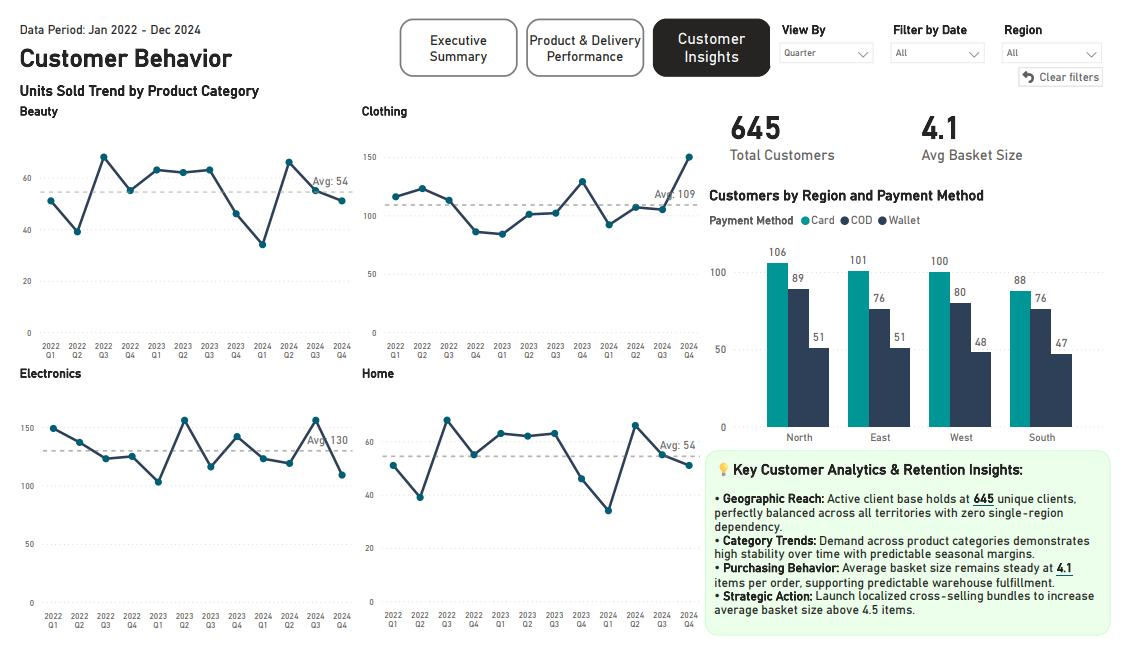

The dashboard page shown, as its layout file describes it:
{"tool":"powerbi","page":{"name":"Customer Insights","canvas":[1280,720],"ordinal":2},"visuals":[{"type":"clusteredColumnChart","title":"Customers by Region and Payment Method","fields":{"Category":["Dim_Customer.region"],"Series":["Dim_Payment.payment_method"],"Y":["Count(Fact_Sales.customer_id)"]},"box":[805.7,195.7,475.7,308.6],"z":0},{"type":"lineChart","title":"Beauty","fields":{"Category":["Dim_Calendar.Year Quarter"],"Y":["_Measures.Total Units Sold"]},"box":[0,100,400,305.7],"z":1000},{"type":"cardVisual","fields":{"Data":["_Measures.Total Unique Customers","_Measures.Avg Basket Size"]},"box":[805.7,78.6,474.3,117.1],"z":2000},{"type":"textbox","box":[805.7,504.3,474.3,215.7],"z":3000},{"type":"textbox","box":[0,23.8,300,45],"z":4000},{"type":"textbox","box":[0,0,227.1,29.7],"z":5000},{"type":"pageNavigator","box":[449.2,0,433.8,67.5],"z":6000},{"type":"slicer","fields":{"Values":["Dim_Calendar.Year","Dim_Calendar.MonthName"]},"box":[1013.1,0,130,56.9],"z":7000},{"type":"slicer","fields":{"Values":["Dim_Customer.region"]},"box":[1143.1,0,136.9,55.4],"z":8000},{"type":"actionButton","box":[1172.9,57.1,97.9,21.4],"z":9000},{"type":"lineChart","title":"Clothing","fields":{"Category":["Dim_Calendar.Year Quarter"],"Y":["_Measures.Total Units Sold"]},"box":[400,100,405.7,305.7],"z":10000},{"type":"lineChart","title":"Electronics","fields":{"Category":["Dim_Calendar.Year Quarter"],"Y":["_Measures.Total Units Sold"]},"box":[0,405.7,400,315.7],"z":11000},{"type":"lineChart","title":"Home","fields":{"Category":["Dim_Calendar.Year Quarter"],"Y":["_Measures.Total Units Sold"]},"box":[400,405.7,405.7,314.3],"z":12000},{"type":"textbox","box":[0,68.6,300,30.8],"z":13000},{"type":"slicer","fields":{"Values":["Date Granularity.Date Granularity"]},"box":[883.1,0,130,55.4],"z":14000}]}

Visuals, with their boxes in screenshot pixels (x1, y1, x2, y2), scaled from the page's 1280x720 canvas onto the 1126x651 screenshot:
"Customers by Region and Payment Method" clusteredColumnChart: bbox=(709, 177, 1125, 456)
"Beauty" lineChart: bbox=(0, 90, 352, 367)
cardVisual - _Measures.Total Unique Customers x _Measures.Avg Basket Size: bbox=(709, 71, 1125, 177)
textbox: bbox=(709, 456, 1125, 650)
textbox: bbox=(0, 22, 264, 62)
textbox: bbox=(0, 0, 200, 27)
pageNavigator: bbox=(395, 0, 777, 61)
slicer - Dim_Calendar.Year x Dim_Calendar.MonthName: bbox=(891, 0, 1006, 51)
slicer - Dim_Customer.region: bbox=(1006, 0, 1125, 50)
actionButton: bbox=(1032, 52, 1118, 71)
"Clothing" lineChart: bbox=(352, 90, 709, 367)
"Electronics" lineChart: bbox=(0, 367, 352, 650)
"Home" lineChart: bbox=(352, 367, 709, 650)
textbox: bbox=(0, 62, 264, 90)
slicer - Date Granularity.Date Granularity: bbox=(777, 0, 891, 50)
